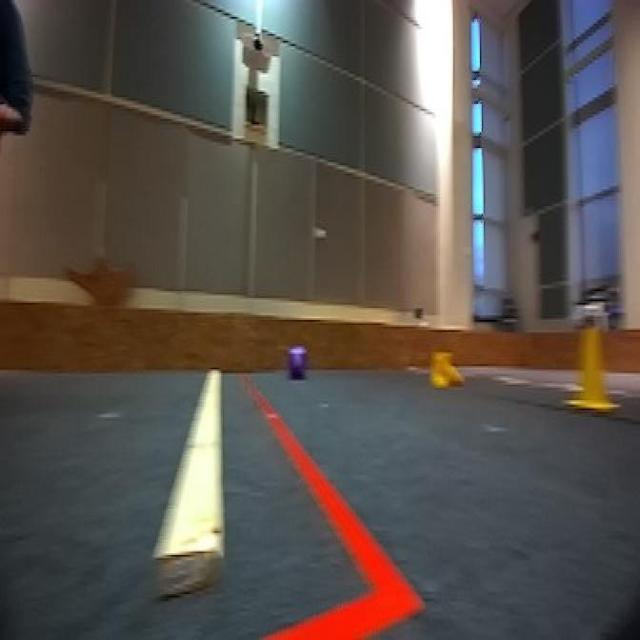frc_cone: (565, 320, 615, 412), (426, 346, 466, 392)
frc_cube: (288, 348, 308, 382)
